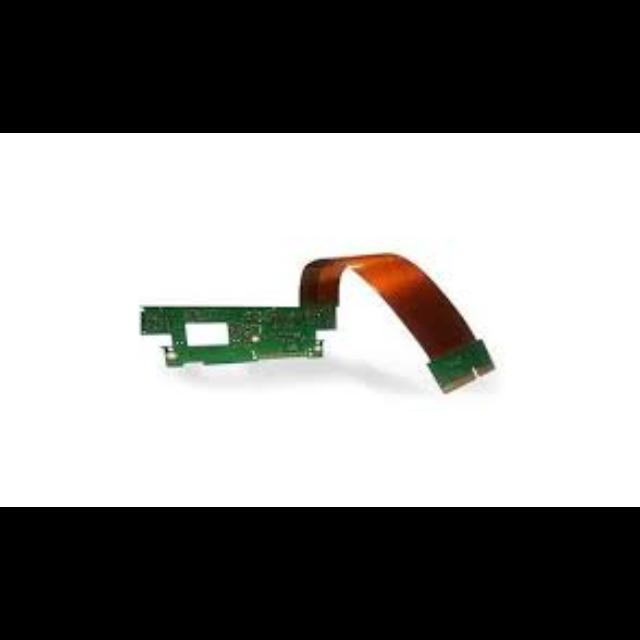PCB: (139, 253, 496, 394)
